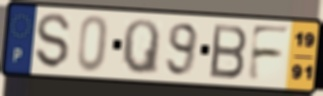0: (75, 14, 110, 75)
9: (164, 21, 200, 77)
B: (208, 22, 250, 81)
F: (245, 23, 293, 83)
Q: (120, 18, 161, 77)
S: (35, 12, 73, 71)
